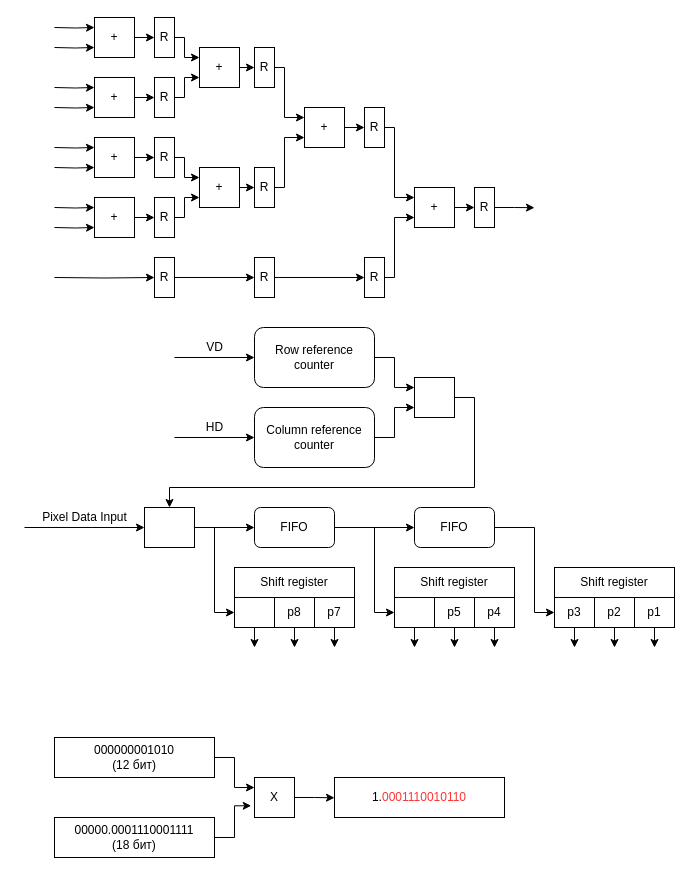
Some shapes in this 692 by 875 pixel diagram are drawn without their labels. The shapes that lost their labels are listed below. From the top down, each one's centre as x and y in pixels, then its label:
At point (434, 397): "ИЛИ".
At point (169, 527): "Шлюз".
At point (254, 612): "p9".
At point (414, 612): "p6".
